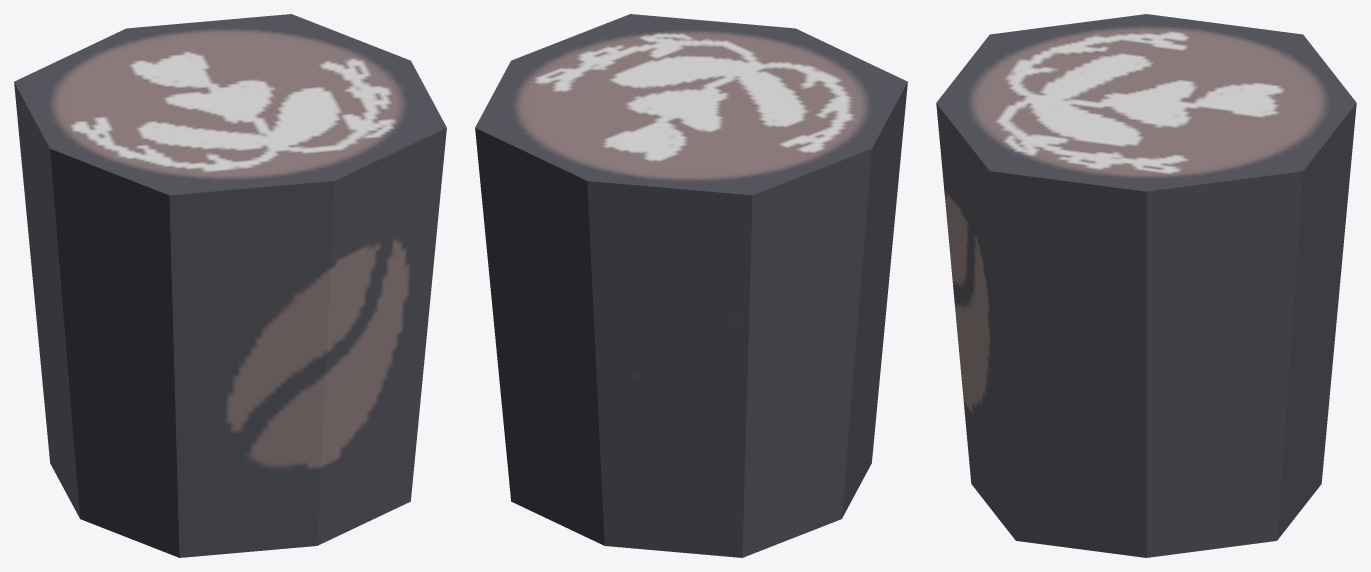
The model's file is coffee.fbx.
3 views of the same model, side by side, from view 1: azimuth 30°, elevation 25°; view 2: azimuth 150°, elevation 25°; view 3: azimuth 270°, elevation 25° (orthographic).
Visible parts, largest first — view 1: coffee; view 2: coffee; view 3: coffee.
Part boxes in pixels (x1,y1,x2,y2): coffee: (14,14,446,557); coffee: (475,14,907,557); coffee: (936,14,1356,557).
Bounding box in the file's own units: 41 × 41 × 41.
